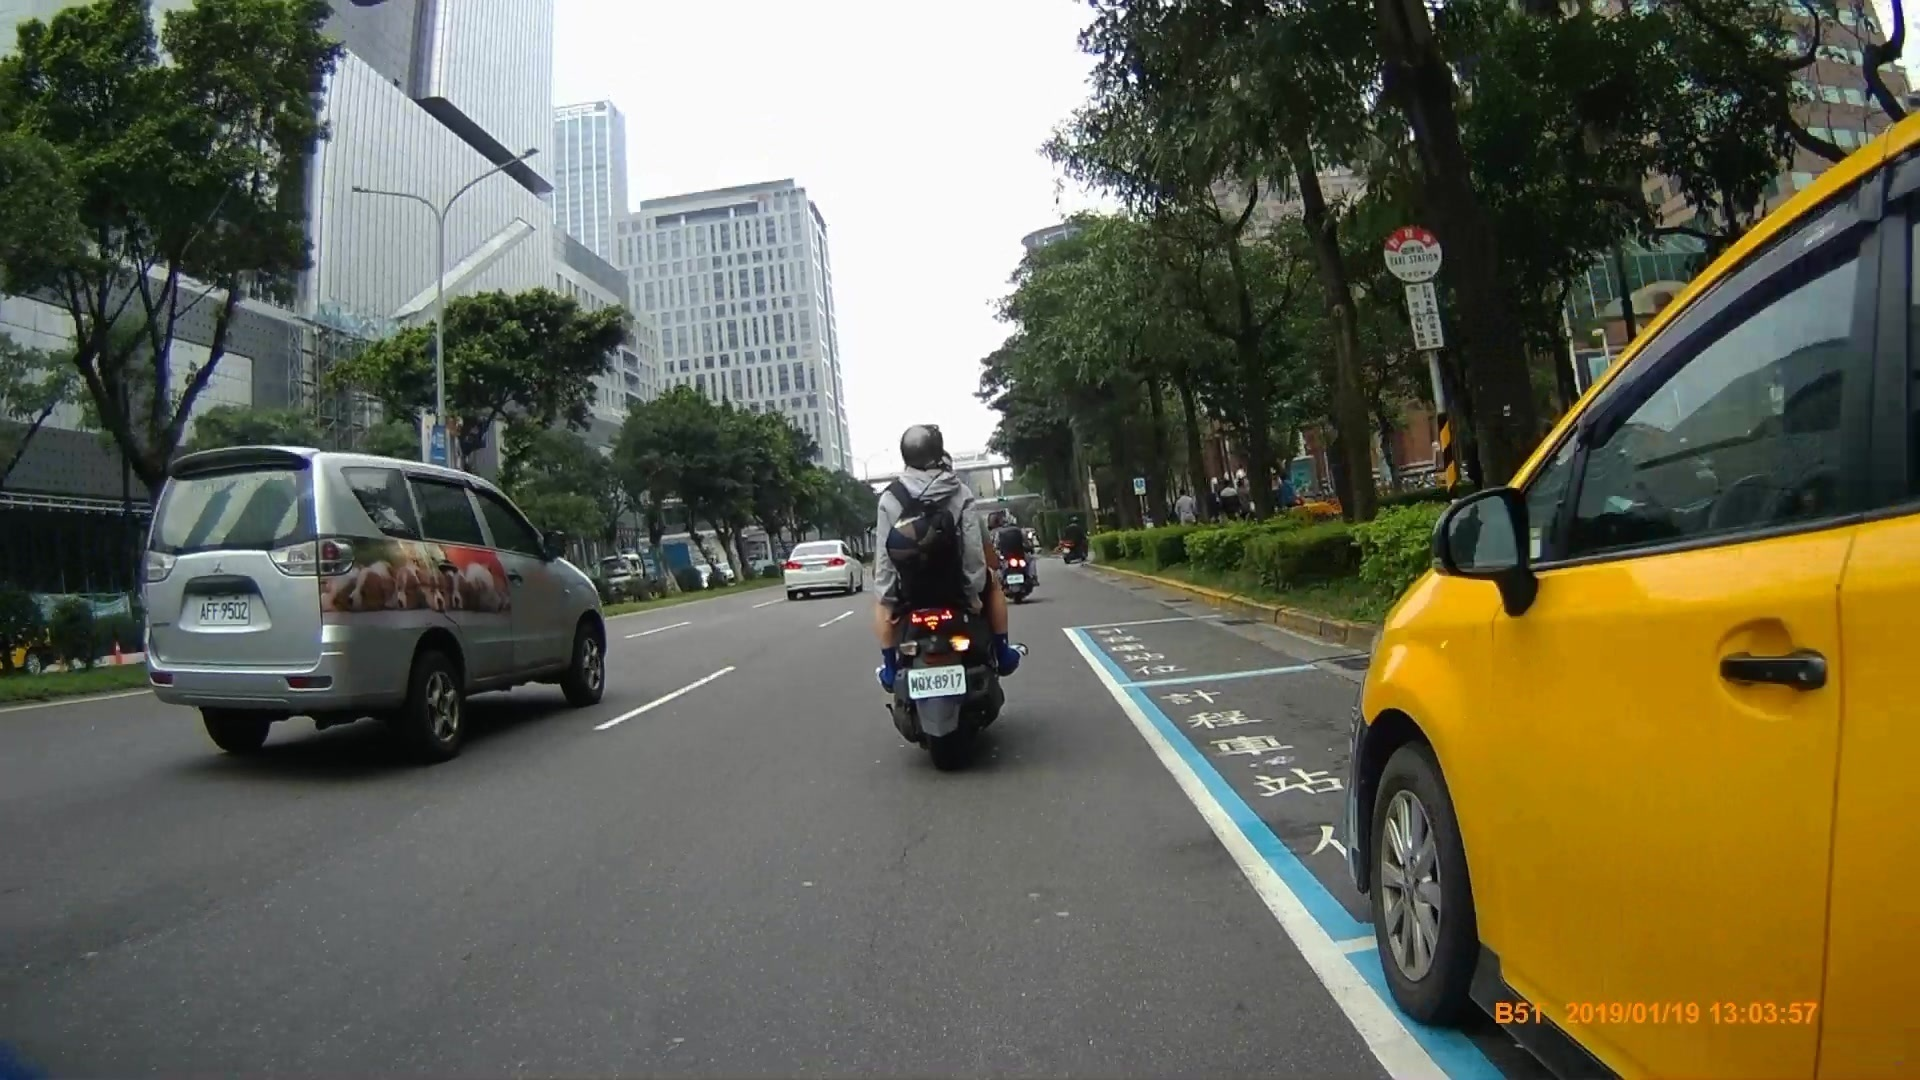License_plate: (190, 593, 255, 628), (903, 667, 968, 698)
